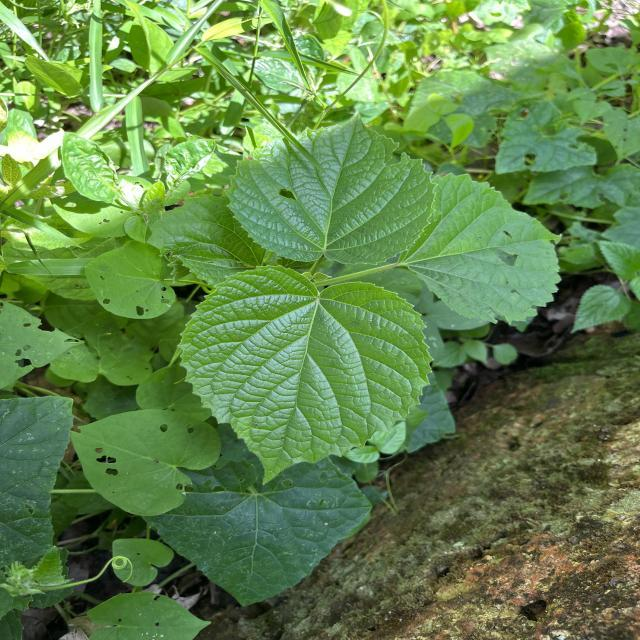Clerodendrum infortunatum: (175, 263, 435, 490), (220, 106, 440, 266)
